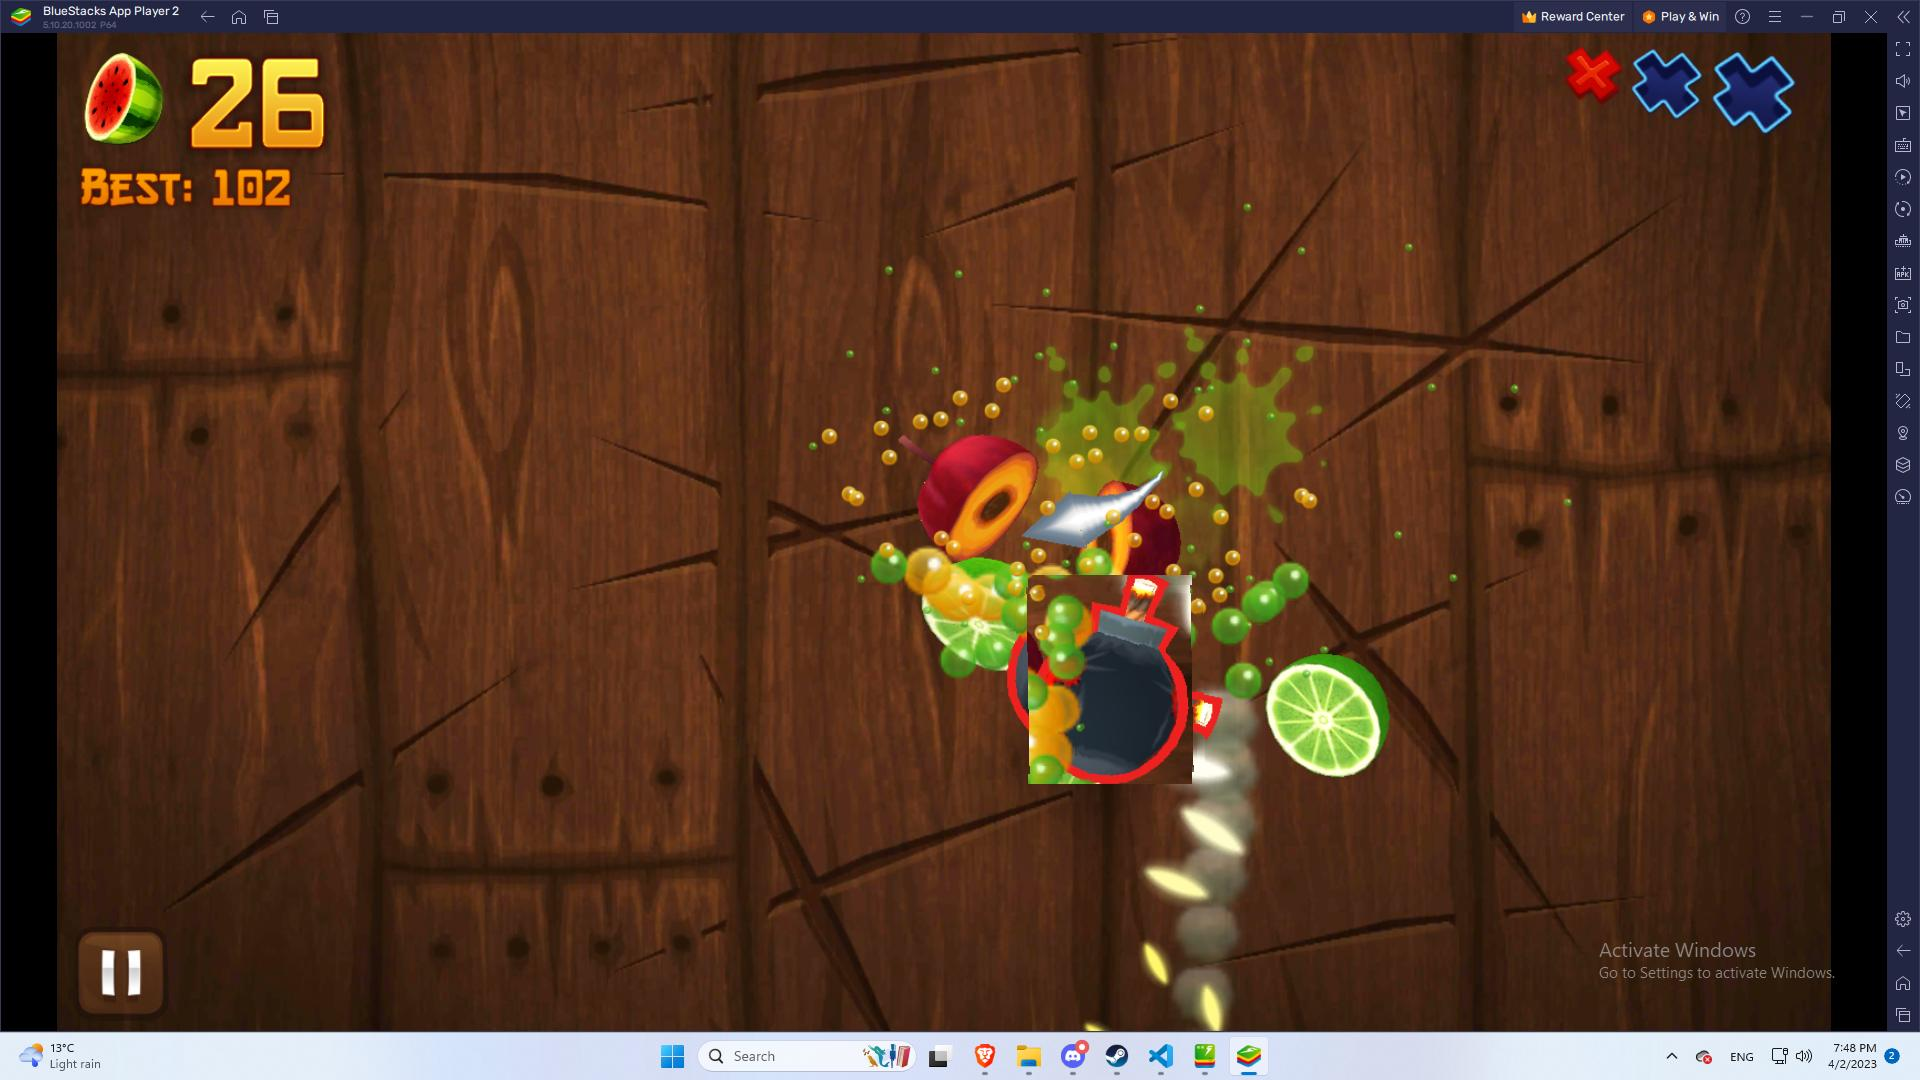bomb: (1017, 585, 1205, 774)
